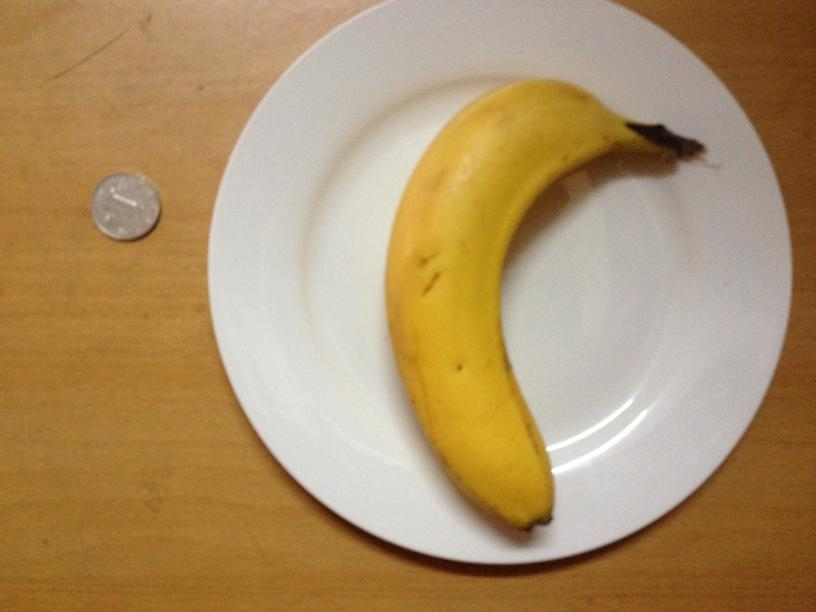banana: (390, 79, 623, 529)
coin: (88, 172, 162, 241)
